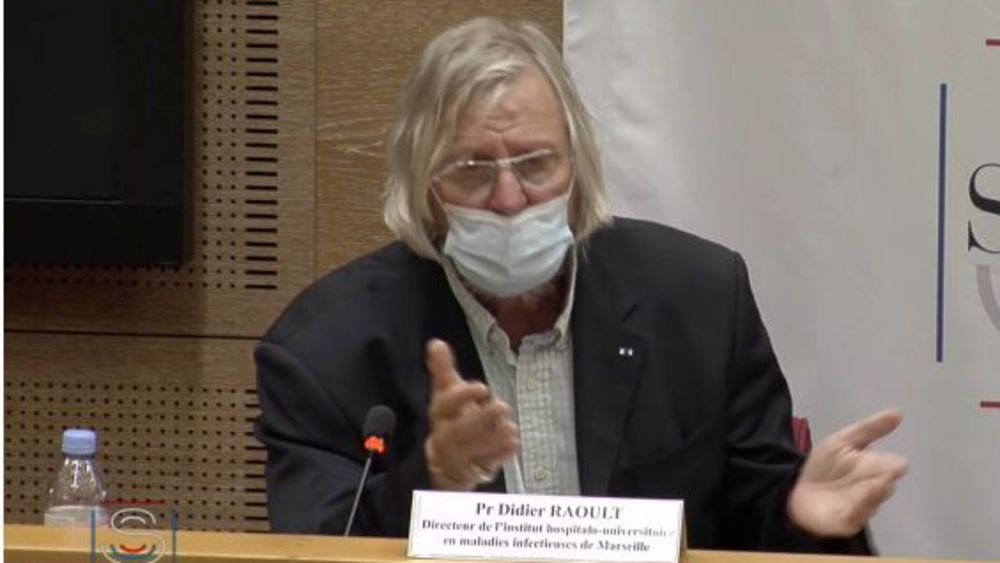with_incorrect_mask: (431, 138, 579, 299)
